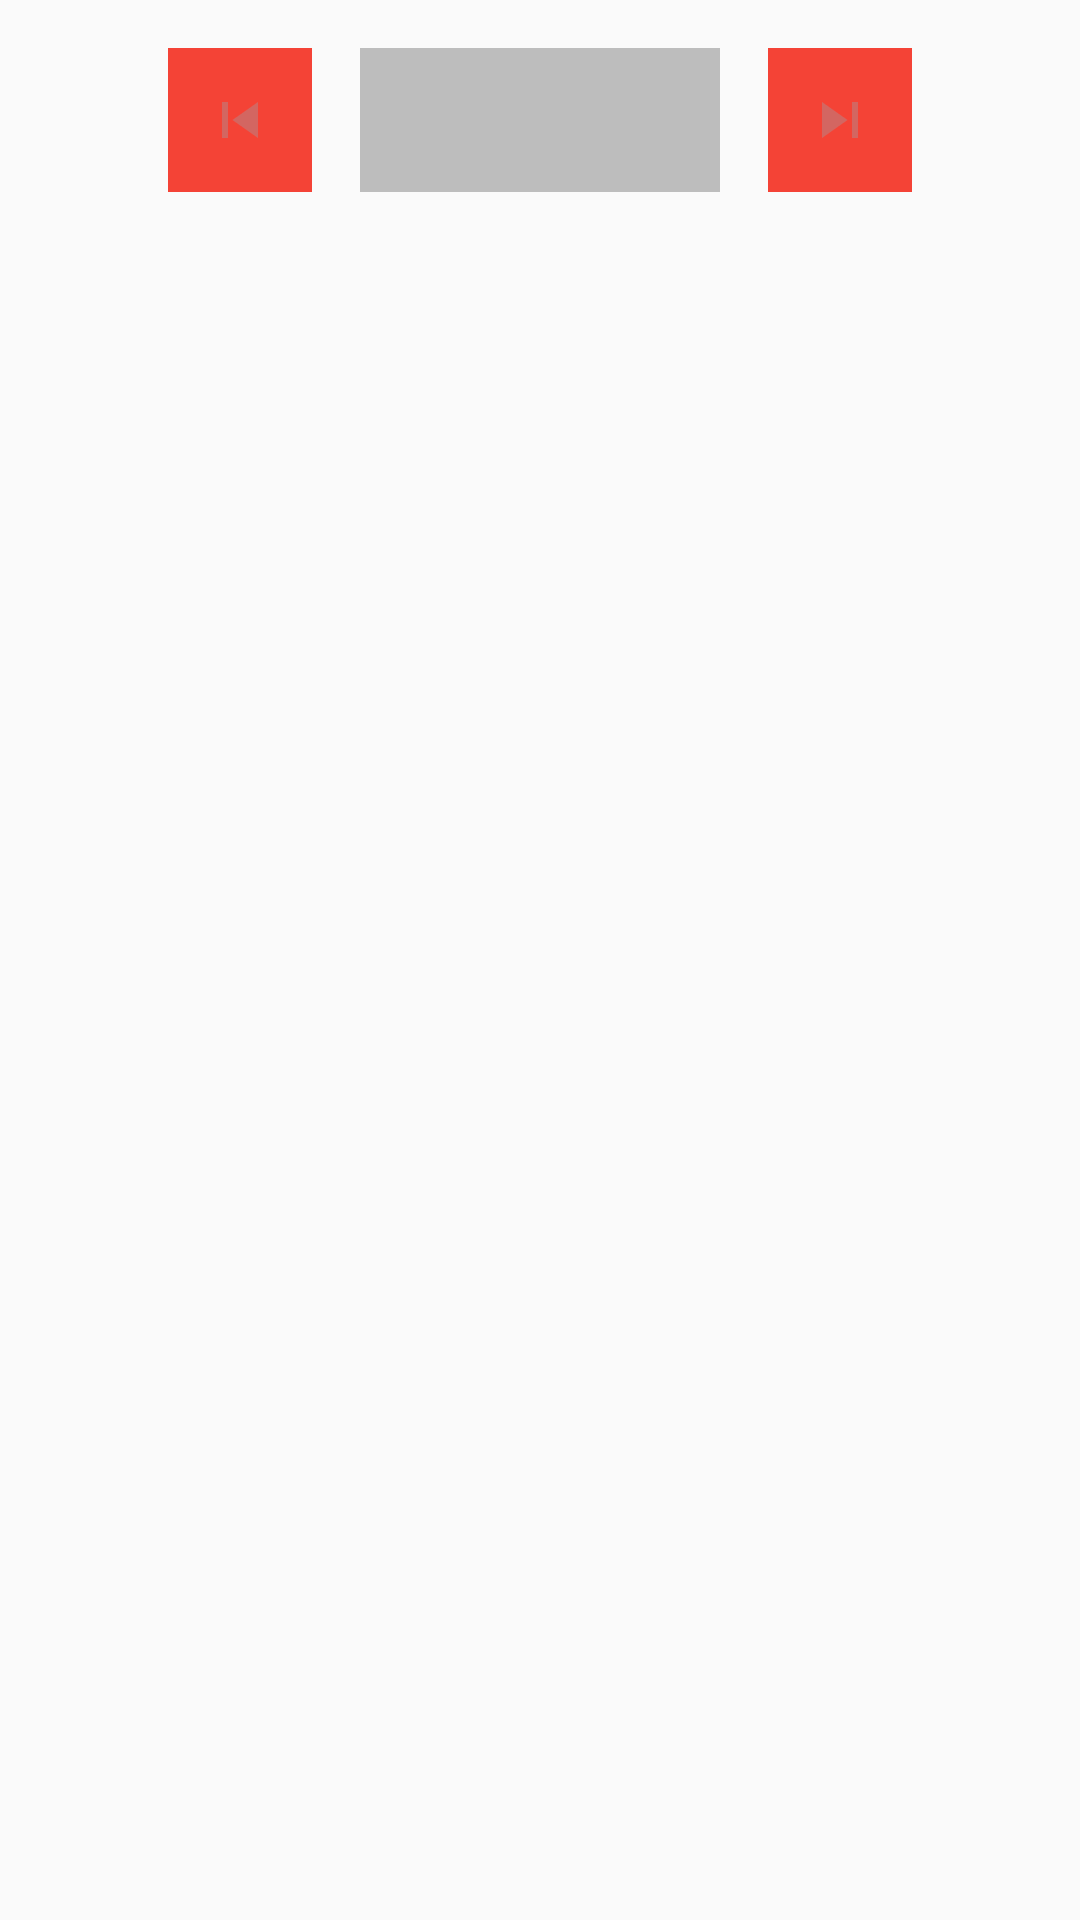

Named icons in this screenshot (1080px x 1920px) and their bounding boxes, (x1, y1, x2, y2):
Next: (768, 48, 912, 192)
Previous: (168, 48, 312, 192)
